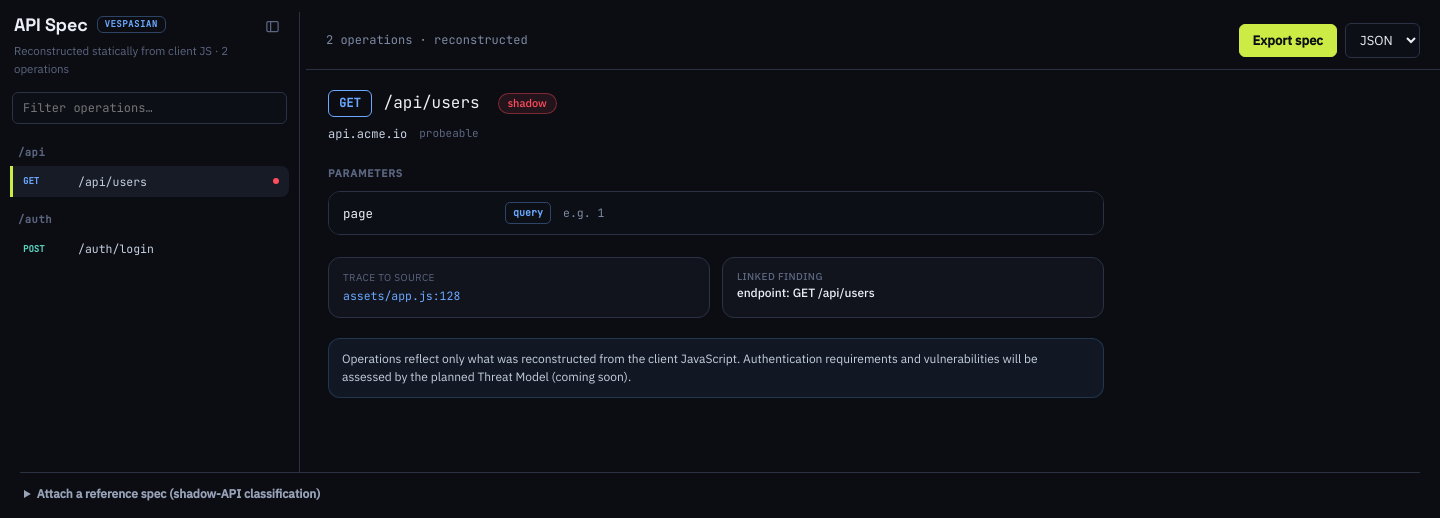
Scenario: ApiSpecPage › filters the operation list by the free-text query
The width and height of the screenshot is (1440, 518).
Expected: the text "/api" is shown, x1=18 y1=145 x2=45 y2=159
Type "auth" into the field labelled "Filter operations…". click: (150, 108)
box: x1=12 y1=92 x2=287 y2=124
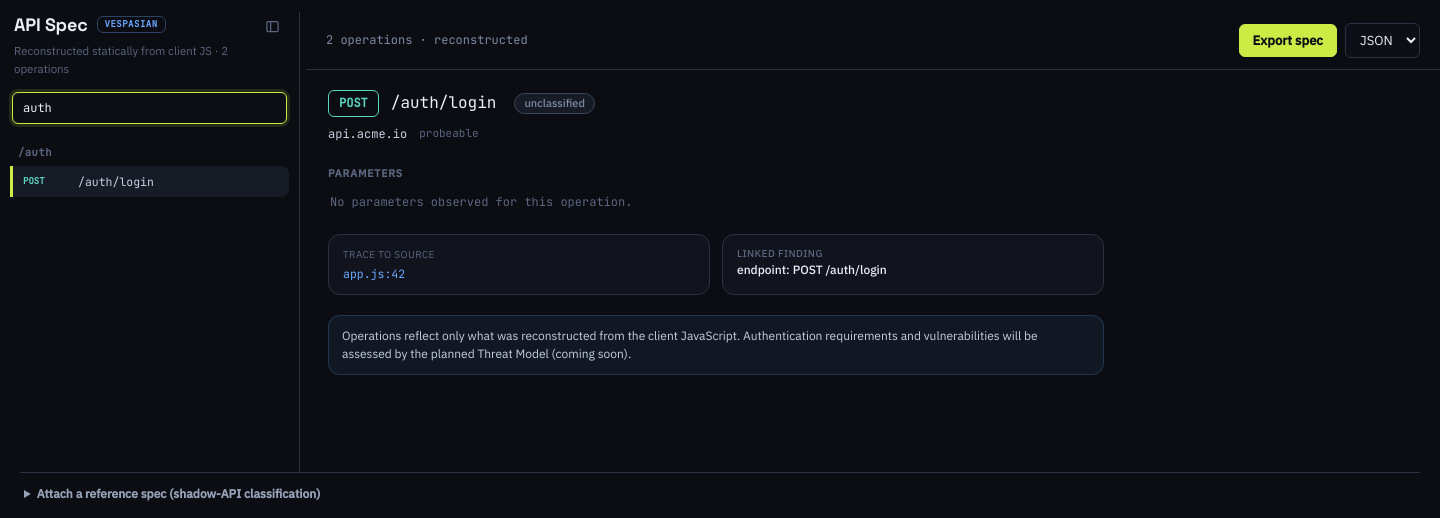
Expected: the text "/auth" is shown, x1=18 y1=145 x2=52 y2=159
Now the text "/api" is gone
